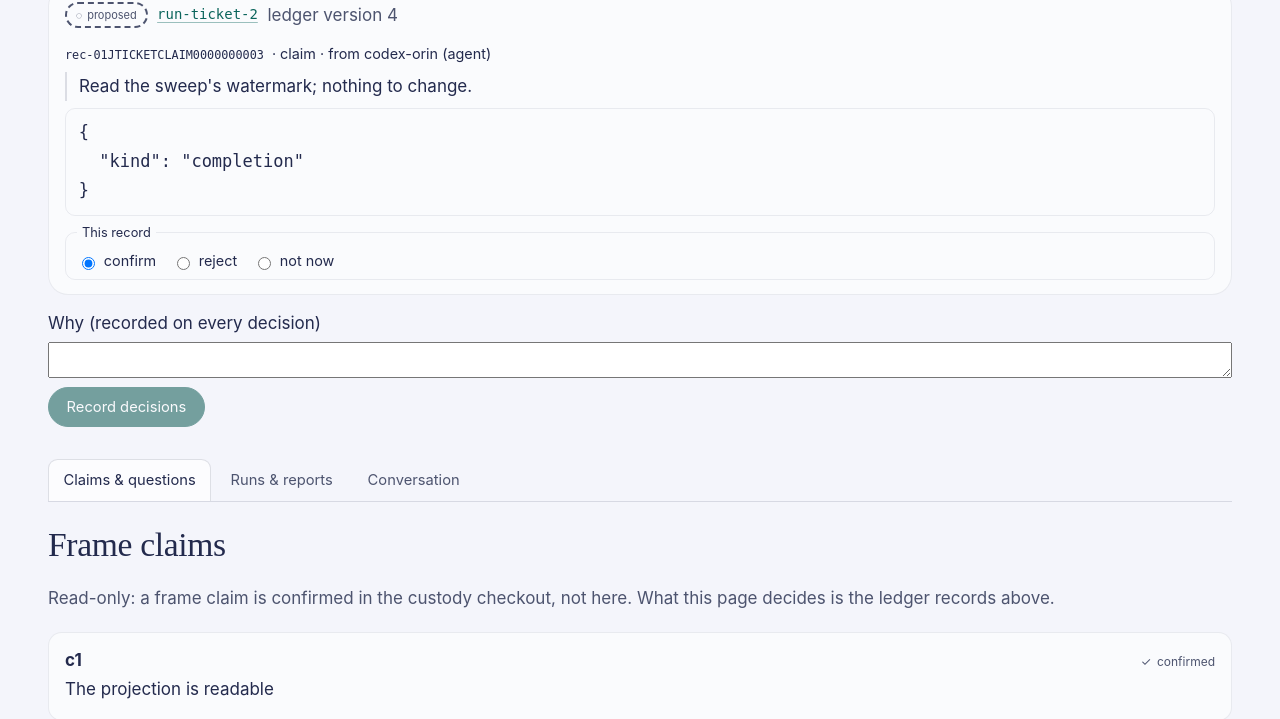
Test: TicketView claim reviews (task t12) › reloads only the conflicted group, at the version the reload served
(page scrolled)
In the text box labelled "Why (recorded on every decision)": (640, 360) [48,342,1232,378], type "read the qualification"
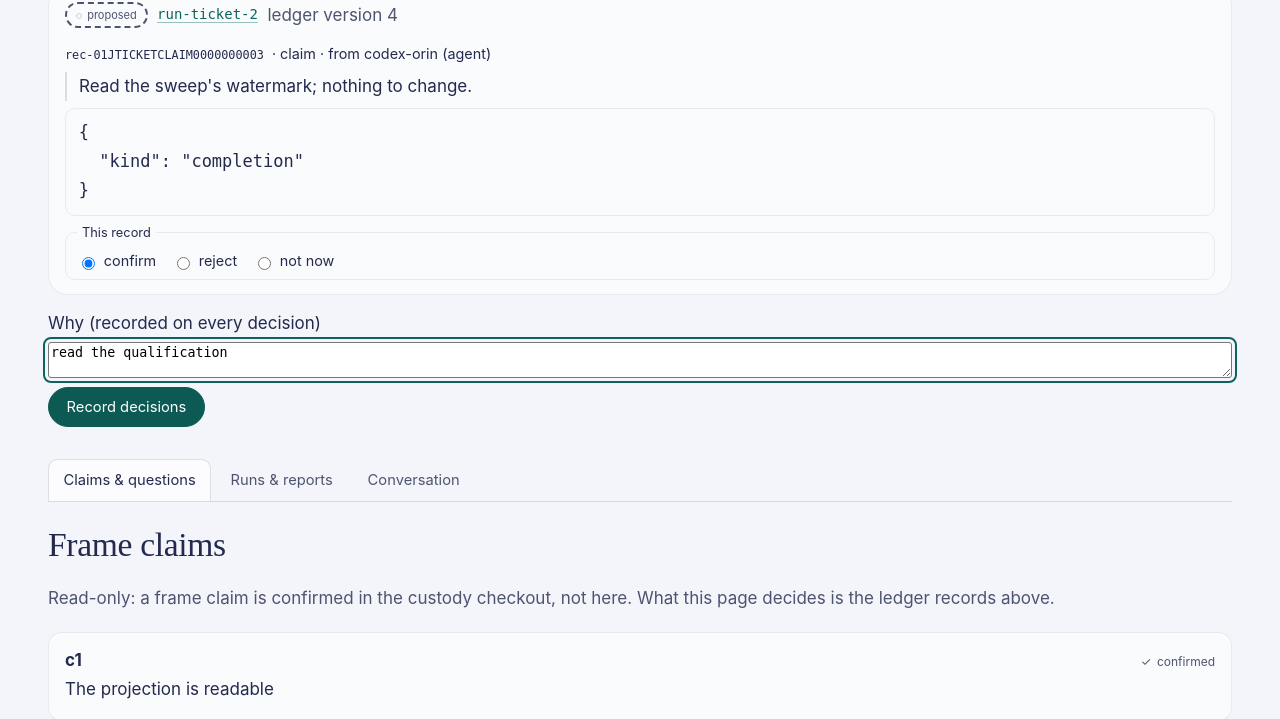
Click the button "Record decisions": (126, 407) [48,387,205,427]
(page scrolled)
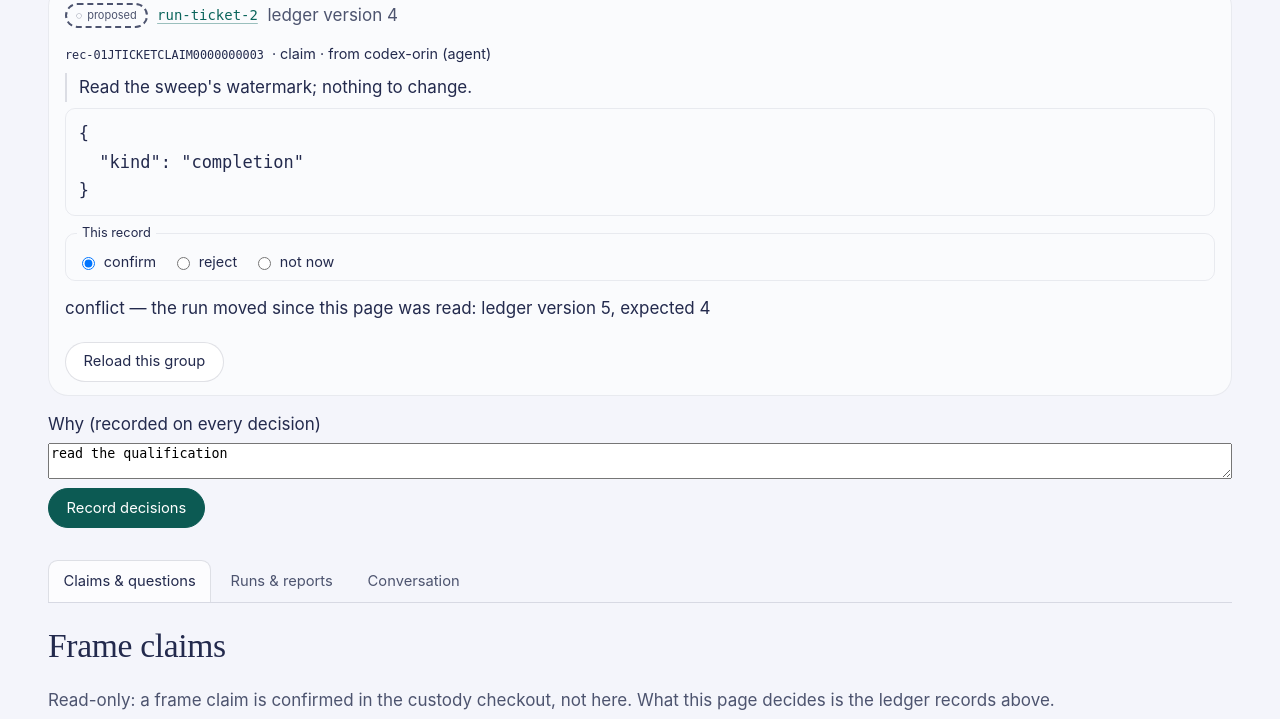
Click the button "Reload this group": (144, 362) [65,342,224,382]
(page scrolled)
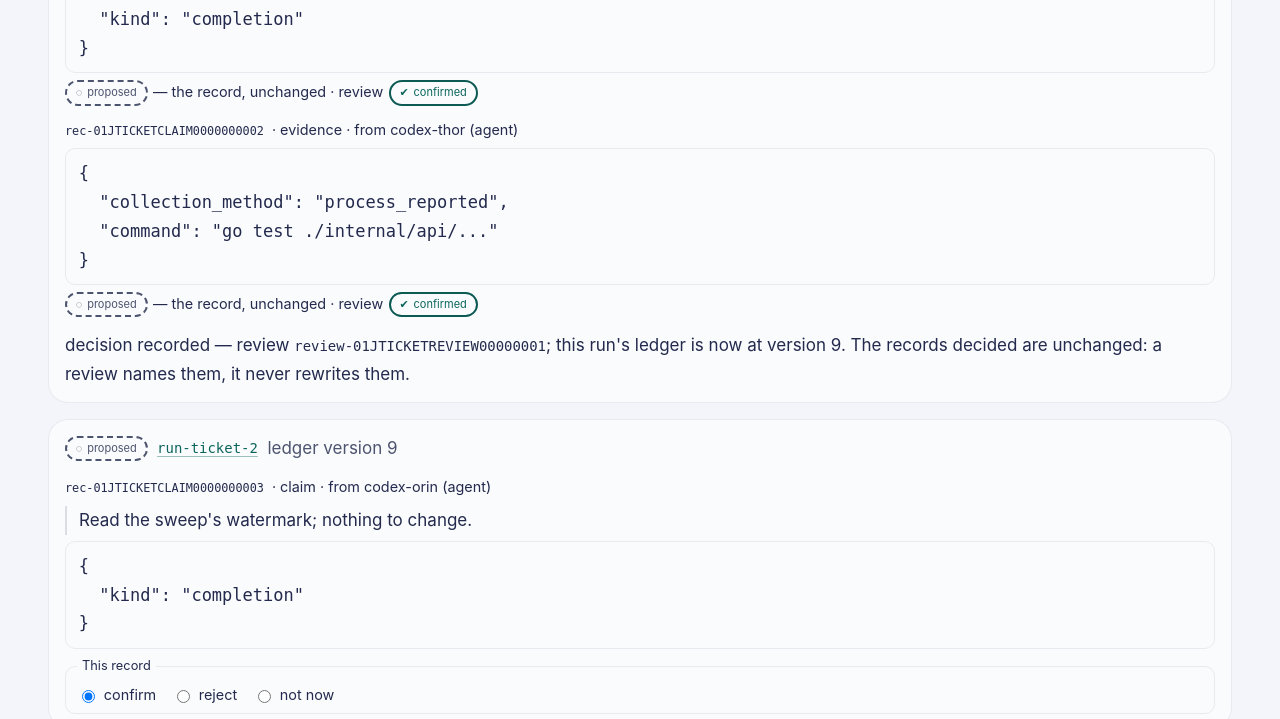
expect the text "ledger version 9" is shown: met, box [267,434,398,463]
